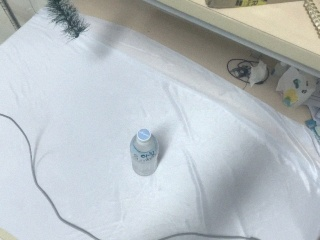bottle: (129, 128, 161, 177)
